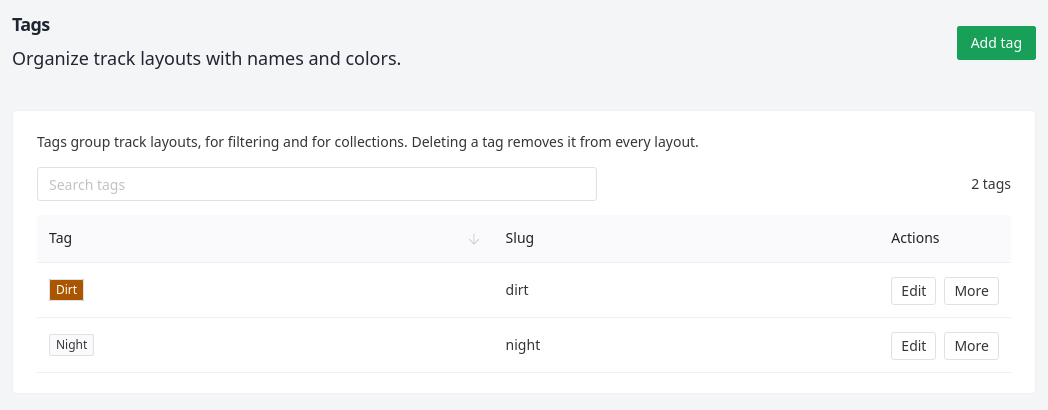
Scenario: TagsView › lists the tags and searches them
The image size is (1048, 410).
Type "nig" into the field named "Search tags" at (307, 184), box [49,167,565,201]
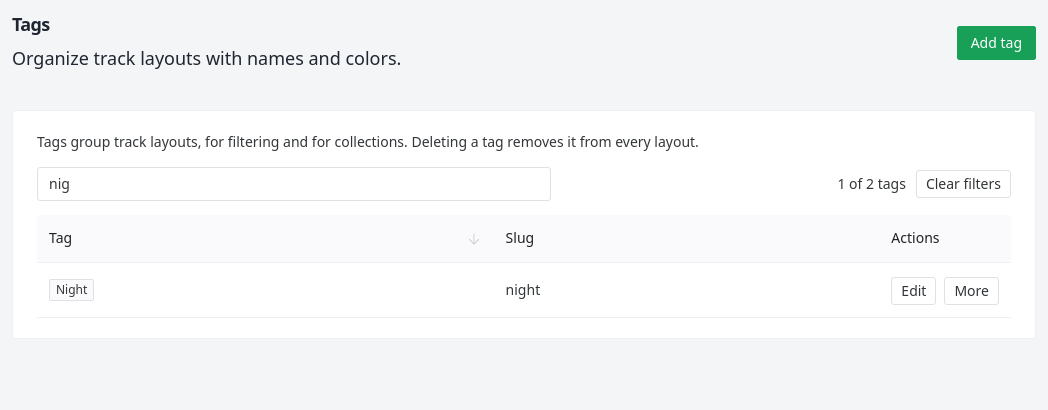
Expected: the text "Night" is shown, [56,284,87,296]
Expected: the text "Dirt" is gone
